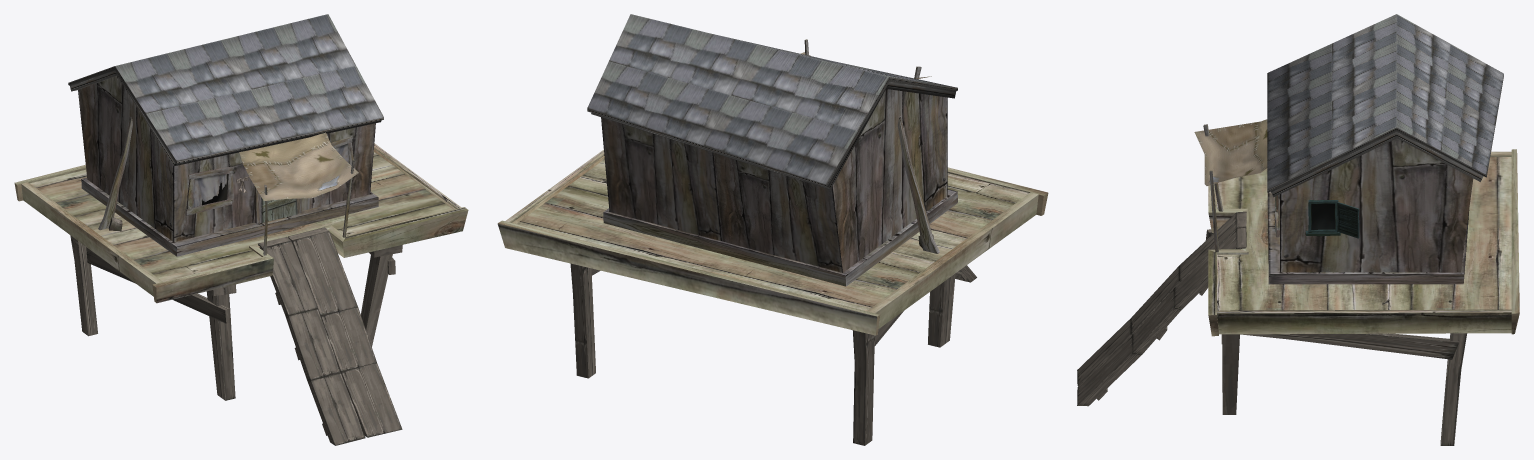
The model's file is shanty_npc_house_combo_E.fbx.
The picture shows the model from 3 angles, left to right: view 1: azimuth 30°, elevation 25°; view 2: azimuth 150°, elevation 25°; view 3: azimuth 270°, elevation 25°; orthographic projection. The views are drawn at different scales.
Parts seen in each view (by area): view 1: house_geo, pPlane13, second_floor_geo, rightside, leftside, platform, pasted__tent_part_canvas2, pasted__tent_part_canvas, columnD, columnA, columnC, columnsupport.001 (+3 smaller); view 2: house_geo, pPlane13, second_floor_geo, platform, columnC, columnB, columnD, wood_support_high; view 3: house_geo, pPlane13, second_floor_geo, rightside, platform, leftside, columnsupport, pasted__tent_part_canvas, columnB, columnA, pasted__tent_part_canvas2, shutter (+2 smaller).
Boxes of the visible parts, x1=… form: house_geo: x1=68, y1=14, x2=383, y2=242; pPlane13: x1=30, y1=151, x2=452, y2=281; second_floor_geo: x1=14, y1=143, x2=468, y2=303; rightside: x1=288, y1=227, x2=402, y2=437; leftside: x1=258, y1=237, x2=365, y2=445; platform: x1=81, y1=178, x2=378, y2=256; pasted__tent_part_canvas2: x1=280, y1=132, x2=352, y2=197; pasted__tent_part_canvas: x1=239, y1=133, x2=358, y2=200; columnD: x1=206, y1=291, x2=235, y2=400; columnA: x1=361, y1=254, x2=392, y2=346; columnC: x1=70, y1=235, x2=97, y2=336; columnsupport.001: x1=86, y1=247, x2=230, y2=323; house_geo: x1=587, y1=14, x2=957, y2=272; pPlane13: x1=517, y1=159, x2=1029, y2=311; second_floor_geo: x1=497, y1=149, x2=1048, y2=335; platform: x1=603, y1=189, x2=957, y2=286; columnC: x1=852, y1=330, x2=874, y2=445; columnB: x1=570, y1=263, x2=595, y2=378; columnD: x1=928, y1=273, x2=955, y2=347; wood_support_high: x1=897, y1=116, x2=939, y2=253; house_geo: x1=1267, y1=14, x2=1503, y2=272; pPlane13: x1=1217, y1=157, x2=1511, y2=310; second_floor_geo: x1=1208, y1=149, x2=1519, y2=336; rightside: x1=1077, y1=228, x2=1246, y2=406; platform: x1=1267, y1=191, x2=1469, y2=284; leftside: x1=1077, y1=211, x2=1246, y2=386; columnsupport: x1=1240, y1=333, x2=1459, y2=359; pasted__tent_part_canvas: x1=1194, y1=119, x2=1267, y2=185; columnB: x1=1440, y1=333, x2=1467, y2=445; columnA: x1=1222, y1=334, x2=1239, y2=414; pasted__tent_part_canvas2: x1=1204, y1=148, x2=1267, y2=185; shutter: x1=1337, y1=202, x2=1359, y2=238.
Size of the model in its own units: 3724 by 3315 by 4193.
Materials: 4 (4 with a texture image).
